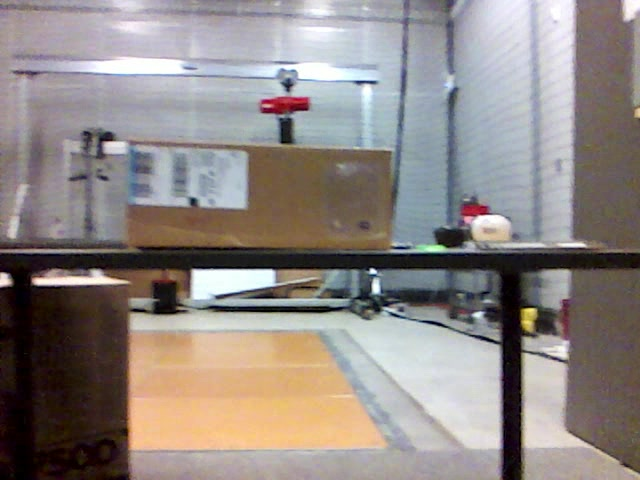box: (128, 141, 394, 249)
